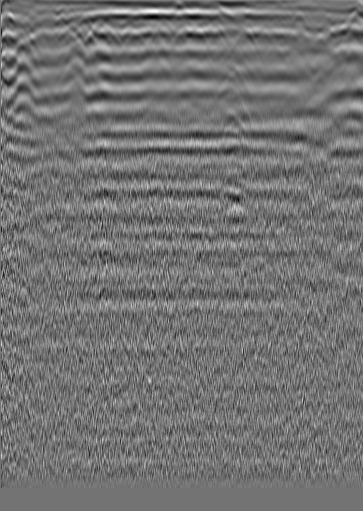가스: (214, 113, 246, 145)
상수: (293, 18, 313, 38)
오수: (10, 34, 30, 54)
우수: (155, 30, 175, 50)
